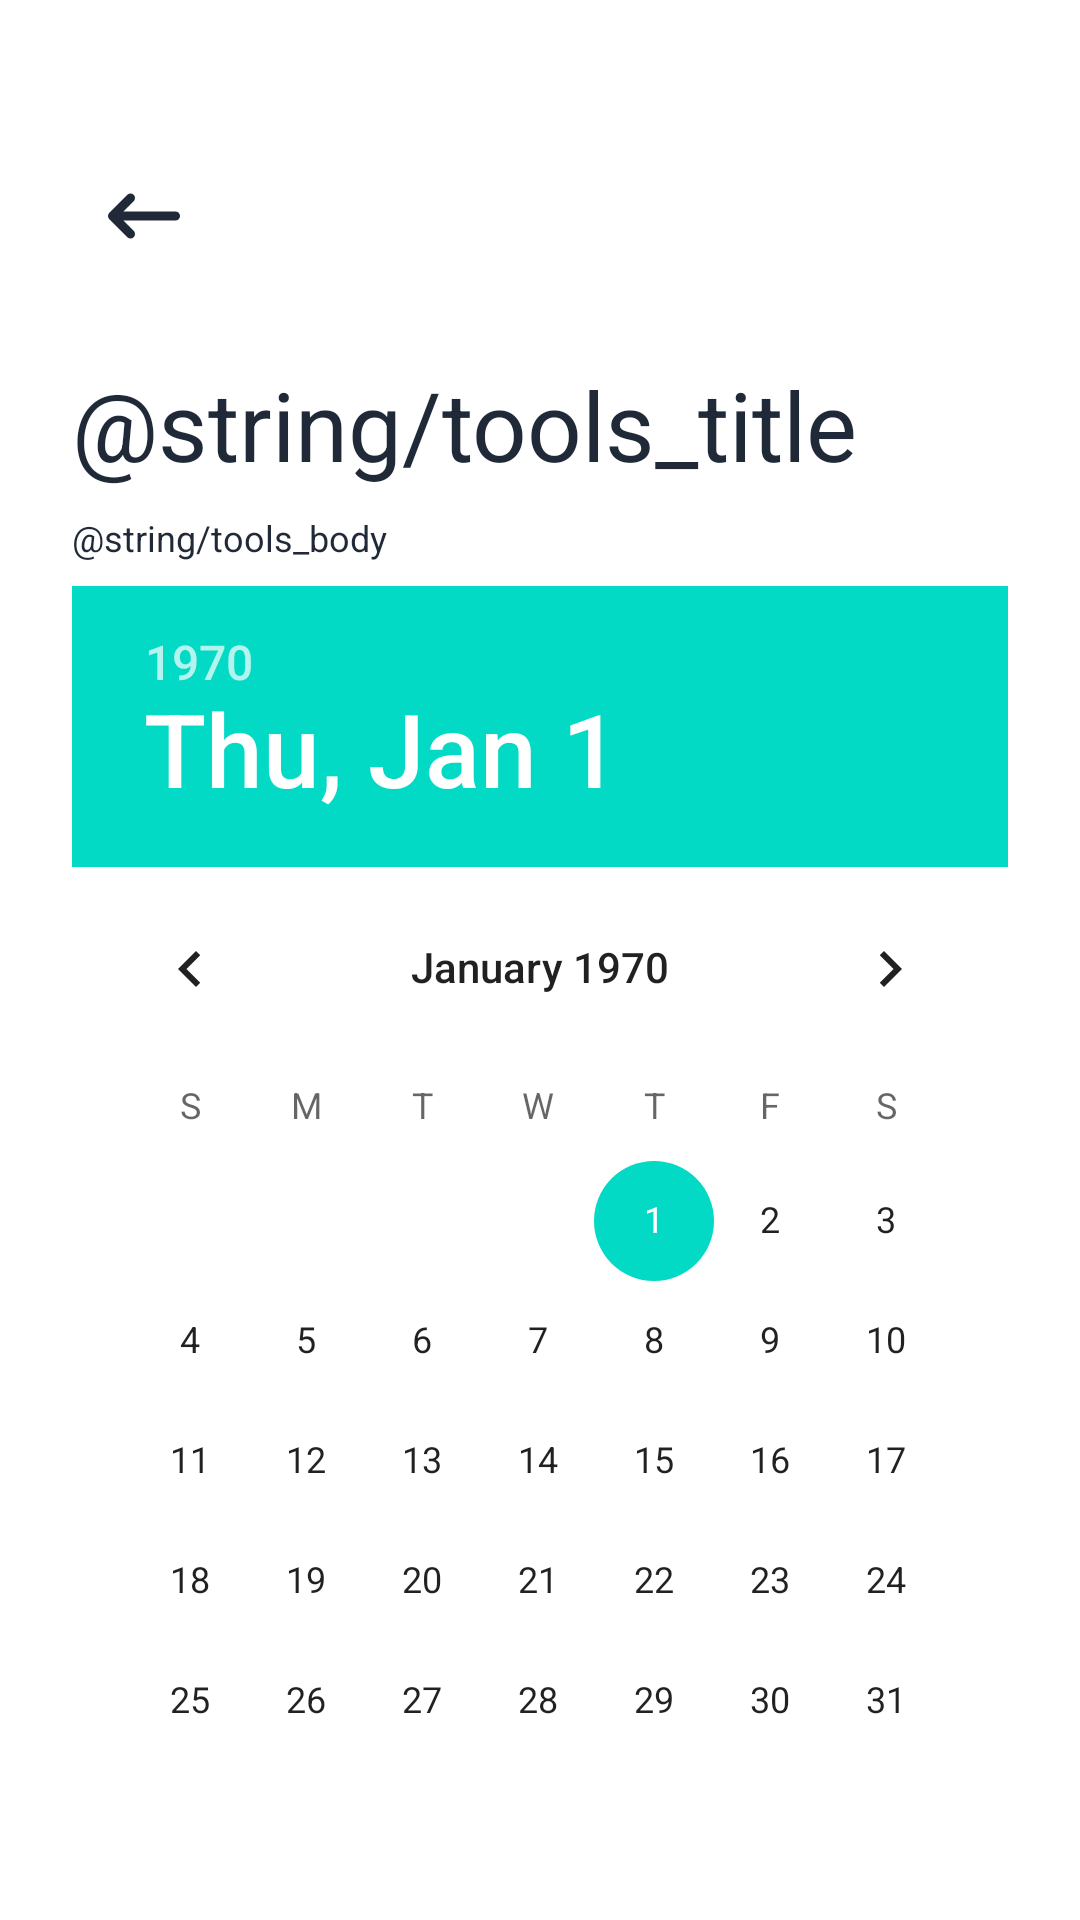

Icon click points for this 1080*1920 phone screenshot, format point (x, y):
return: point (144, 216)
